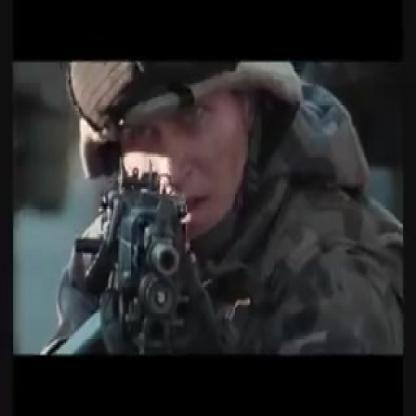Gun: (70, 149, 204, 357)
